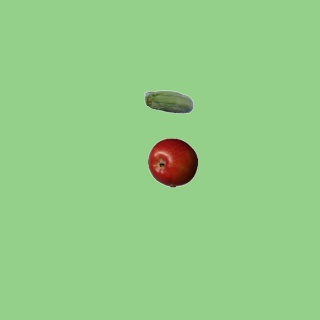Apple Braeburn: (147, 137, 197, 187)
Corn Husk: (143, 78, 193, 128)
